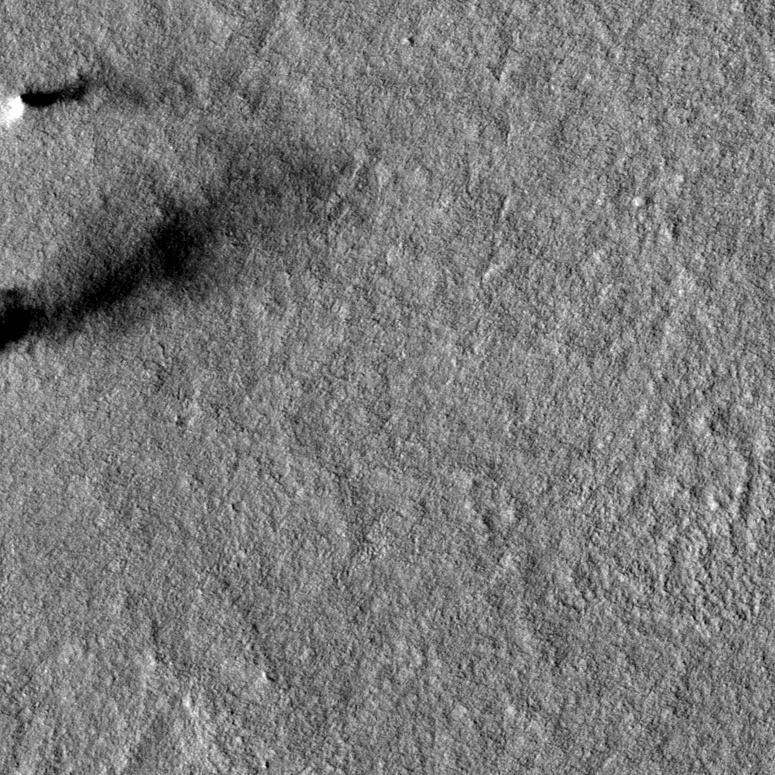dust_devil: (1, 74, 91, 127)
